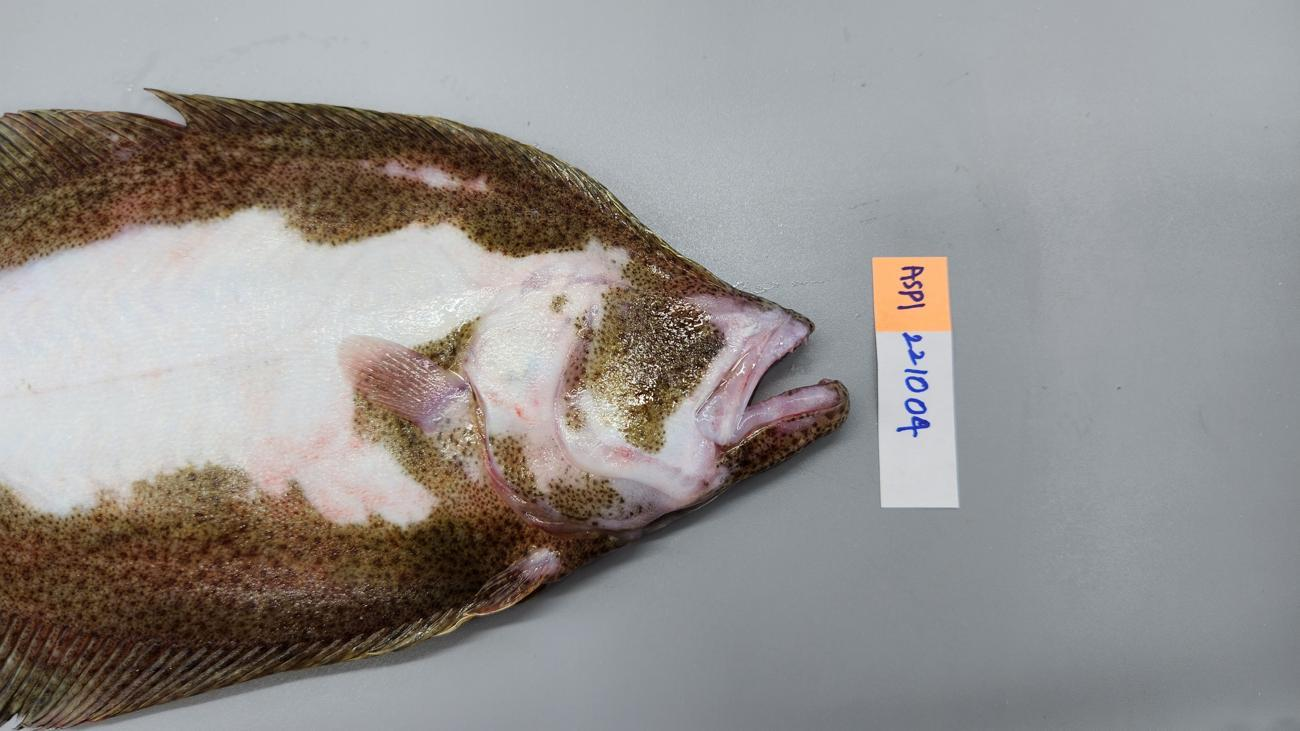SPDYH: (0, 342, 611, 646)
